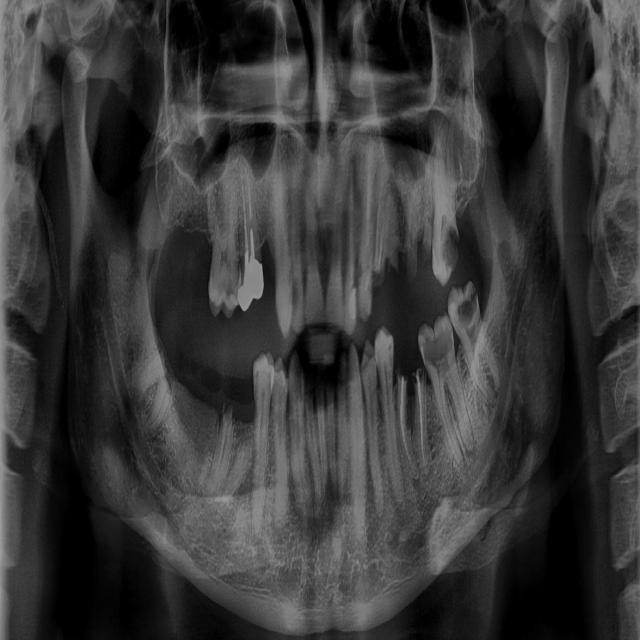Caries: (420, 318, 452, 369), (455, 281, 479, 329), (442, 222, 458, 273), (219, 266, 238, 304), (292, 281, 299, 318), (356, 257, 363, 294), (238, 256, 245, 282), (353, 256, 358, 289)
Crown: (238, 253, 262, 313)
Missing teeth: (171, 201, 213, 286), (179, 343, 228, 411), (259, 205, 276, 302)
Periapical lesion: (477, 378, 499, 409), (463, 438, 480, 460), (410, 469, 422, 488), (460, 450, 466, 467)
Root Canal Treatment: (242, 184, 248, 257), (248, 179, 251, 218)
Root Piece: (396, 161, 431, 252), (205, 405, 236, 498), (218, 435, 254, 513), (397, 369, 418, 479), (403, 178, 422, 276), (139, 381, 172, 434), (370, 184, 387, 286), (414, 368, 430, 473), (137, 344, 166, 391), (421, 158, 434, 255), (385, 194, 399, 273)
